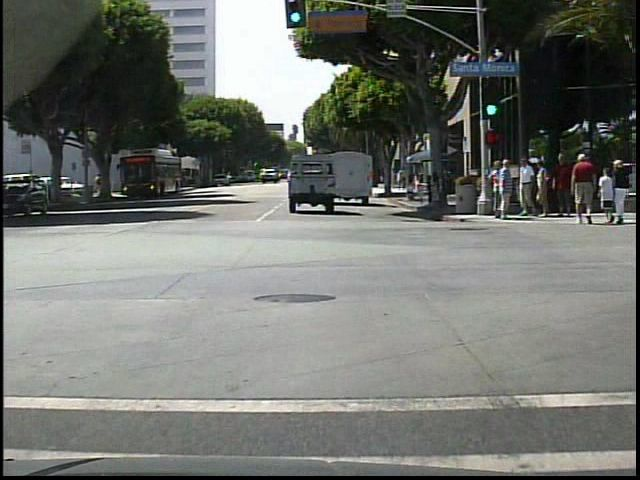person: (571, 151, 598, 231), (553, 151, 575, 219), (611, 159, 632, 226), (518, 158, 539, 218), (598, 165, 618, 225), (497, 159, 515, 223), (534, 161, 552, 222), (491, 162, 504, 221), (100, 176, 110, 201), (396, 170, 405, 193), (94, 174, 103, 197)
